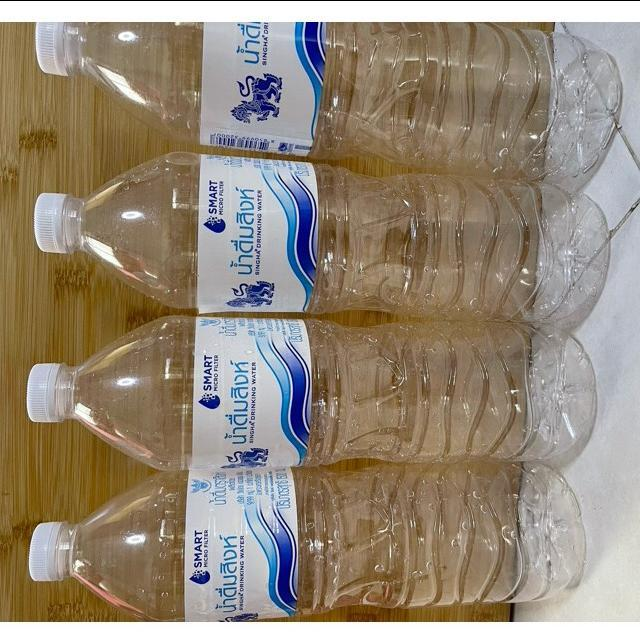PET Bottle: (8, 155, 629, 324), (0, 466, 600, 630), (0, 309, 628, 464), (23, 8, 640, 164)
